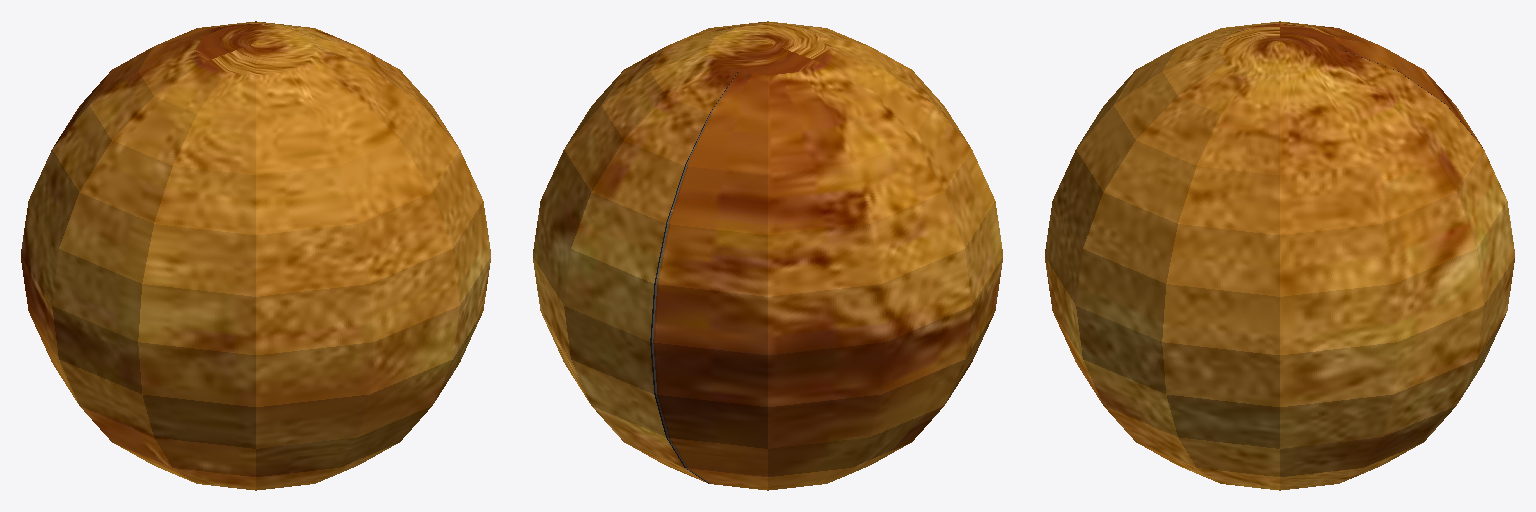
3 renders of one model, left to right at view 1: azimuth 30°, elevation 25°; view 2: azimuth 150°, elevation 25°; view 3: azimuth 270°, elevation 25°, orthographic.
Visible parts, largest first — view 1: planeta:pSphere1; view 2: planeta:pSphere1; view 3: planeta:pSphere1.
Boxes of the visible parts, x1,y1,x2,y2 form: planeta:pSphere1: [21, 21, 490, 490]; planeta:pSphere1: [533, 21, 1002, 490]; planeta:pSphere1: [1045, 21, 1514, 490].
Bounding box in the file's own units: 2 × 2 × 2.
Materials: 1 (1 with a texture image).